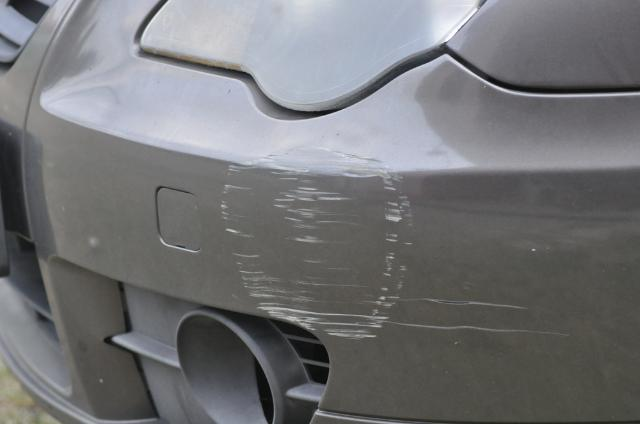scratch: (222, 138, 587, 345)
